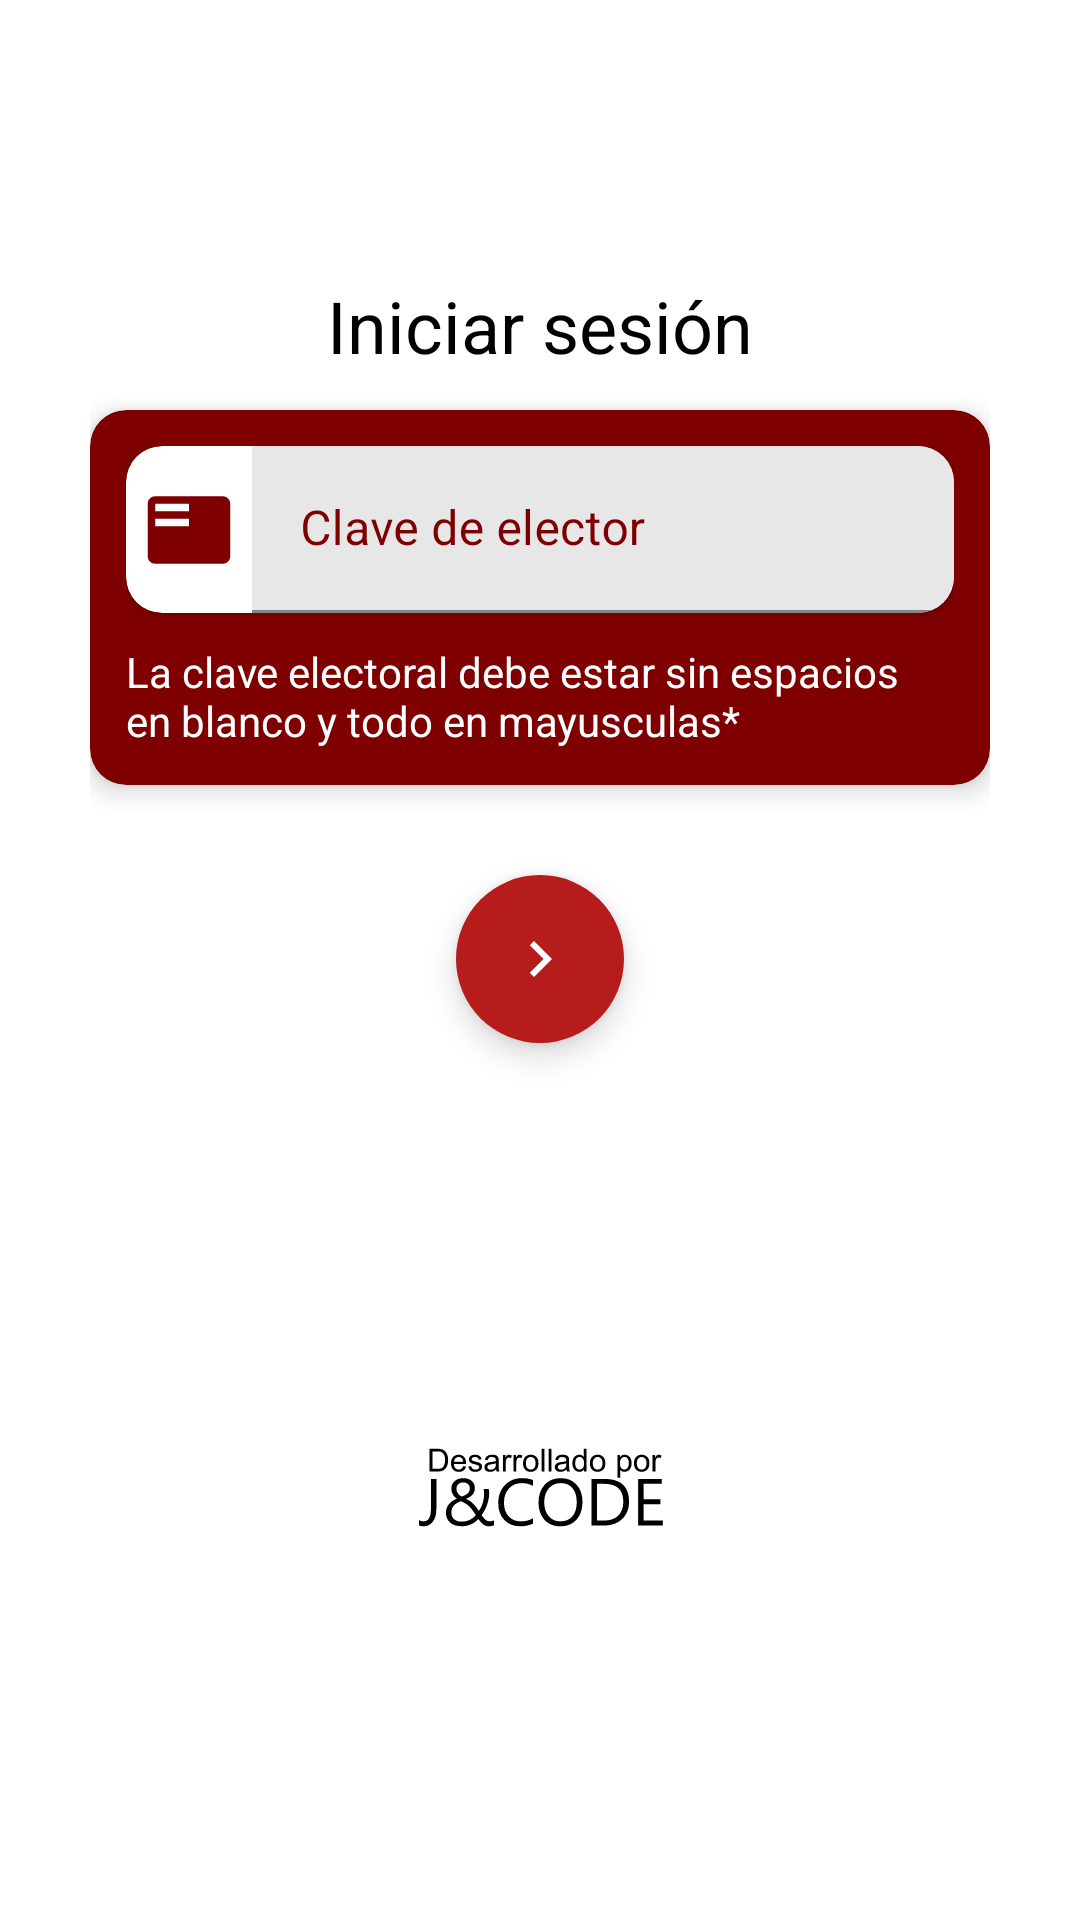

Locate icon controls on the screen. Image size 1080x1920, boxes as (x1, y1, x2, y2).
continuar: (456, 875, 624, 1043)
electorkey: (147, 496, 231, 564)
